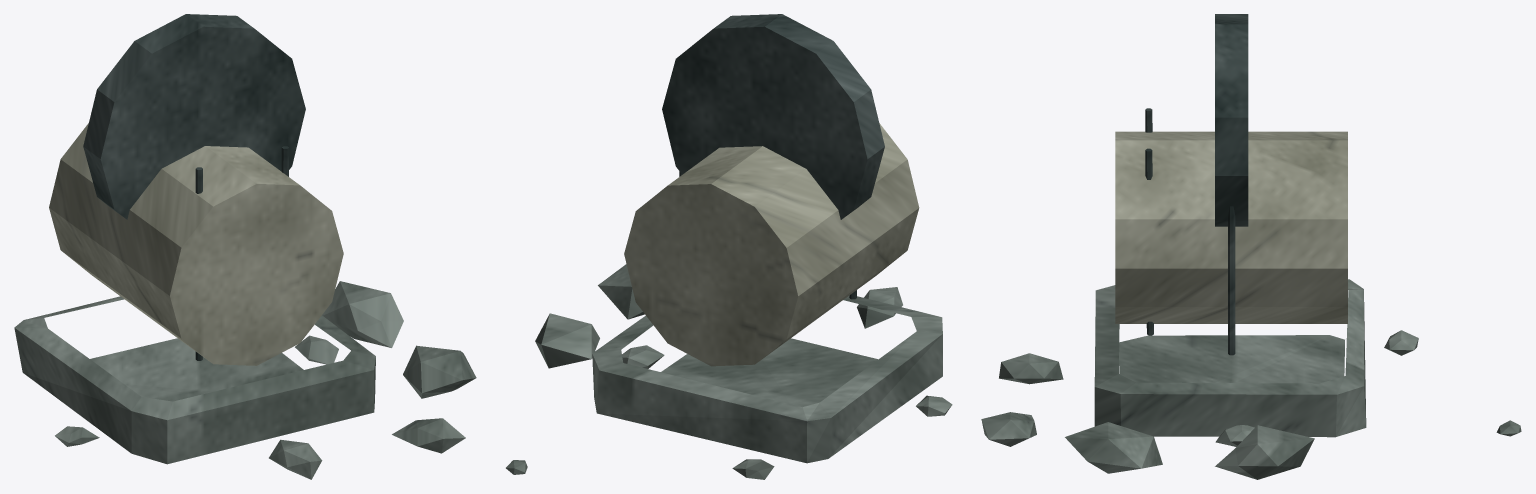
Rendered from 0262_broken_column_12.glb.
The picture shows the model from 3 angles, left to right: view 1: azimuth 30°, elevation 25°; view 2: azimuth 150°, elevation 25°; view 3: azimuth 270°, elevation 25°; orthographic projection. The views are drawn at different scales.
Parts seen in each view (by area): view 1: stone_light, stone, stone_dark; view 2: stone_light, stone, stone_dark; view 3: stone_light, stone, stone_dark.
Boxes of the visible parts, box(x1,y1,x2,y2) form: stone_light: box(49, 123, 343, 365); stone: box(14, 281, 476, 479); stone_dark: box(83, 14, 305, 360); stone_light: box(624, 123, 919, 366); stone: box(506, 264, 952, 479); stone_dark: box(662, 14, 884, 299); stone_light: box(1115, 131, 1347, 323); stone: box(981, 279, 1521, 479); stone_dark: box(1145, 14, 1248, 355).
Size of the model in its own units: 1.88 by 1.78 by 2.41.
3 materials, 3 textured.
